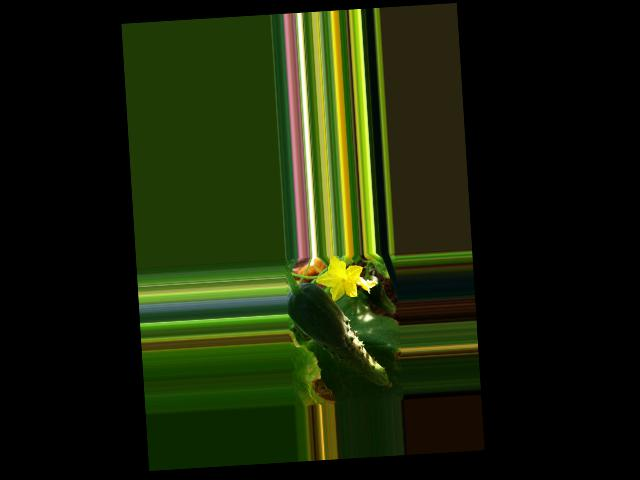cucumber: (286, 277, 393, 394)
